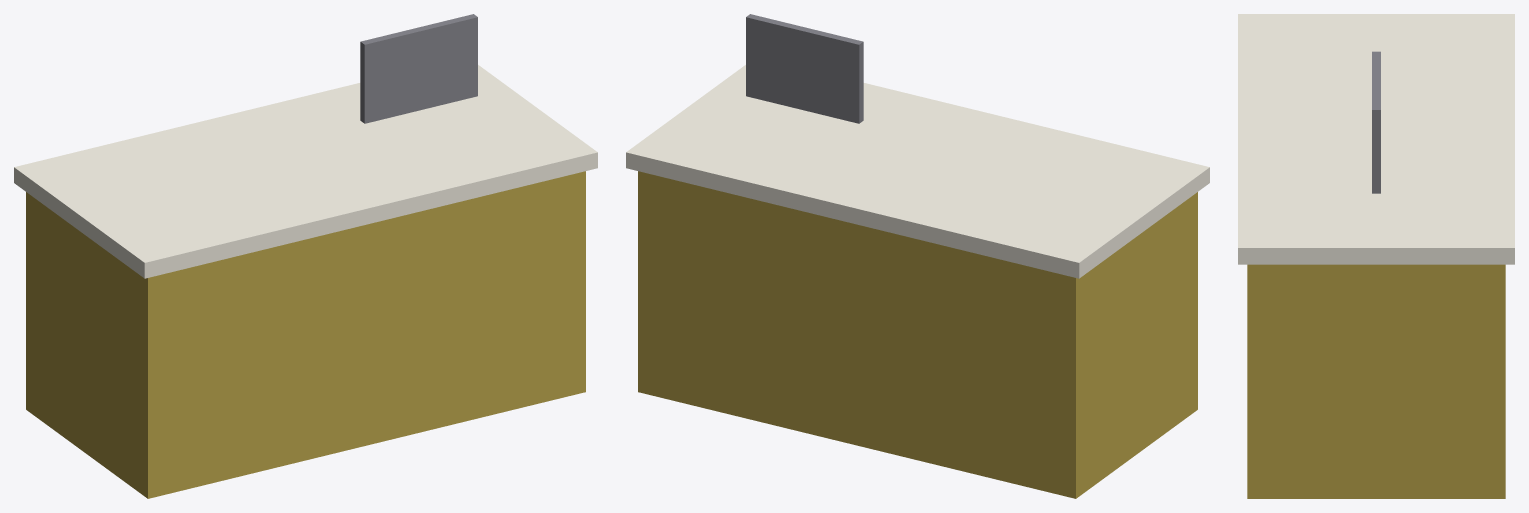
The model's file is register_counter.glb.
3 renders of one model, left to right at view 1: azimuth 30°, elevation 25°; view 2: azimuth 150°, elevation 25°; view 3: azimuth 270°, elevation 25°, orthographic. The views are drawn at different scales.
Parts seen in each view (by area): view 1: body, top, screen; view 2: body, top, screen; view 3: top, body, screen.
Part boxes in pixels (bbox=[...]): body: bbox=[26, 171, 585, 498]; top: bbox=[14, 65, 597, 278]; screen: bbox=[360, 14, 477, 123]; body: bbox=[638, 171, 1197, 498]; top: bbox=[626, 65, 1209, 278]; screen: bbox=[746, 14, 863, 123]; top: bbox=[1238, 14, 1514, 264]; body: bbox=[1247, 264, 1505, 498]; screen: bbox=[1372, 51, 1380, 193].
Bounding box in the file's own units: 1.2 × 0.87 × 0.6.
